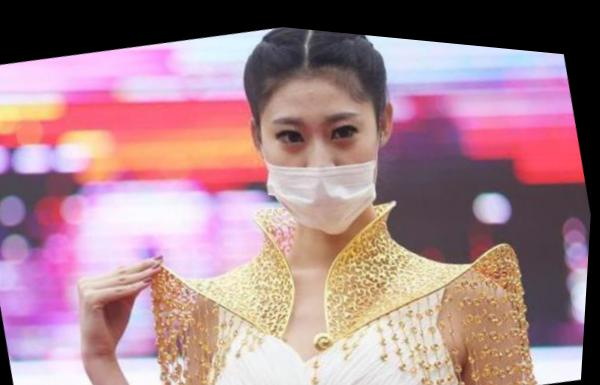WRONG: (250, 80, 402, 242)
